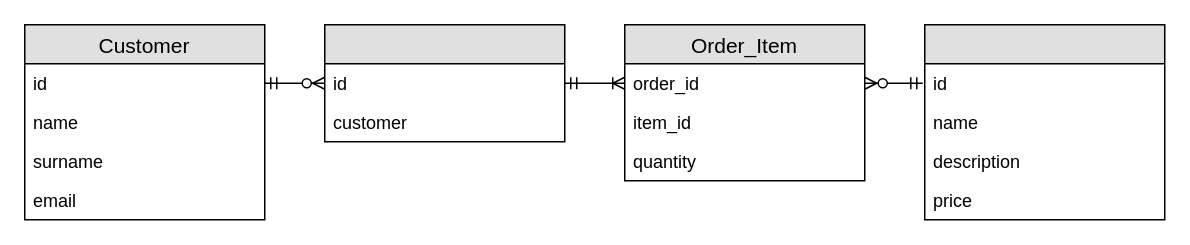
Some shapes in this 1190 by 245 pixel diagram are drawn without their labels. Each missing label, with the box of its shape:
Item: (923, 23, 1165, 220)
Order: (323, 23, 565, 142)
